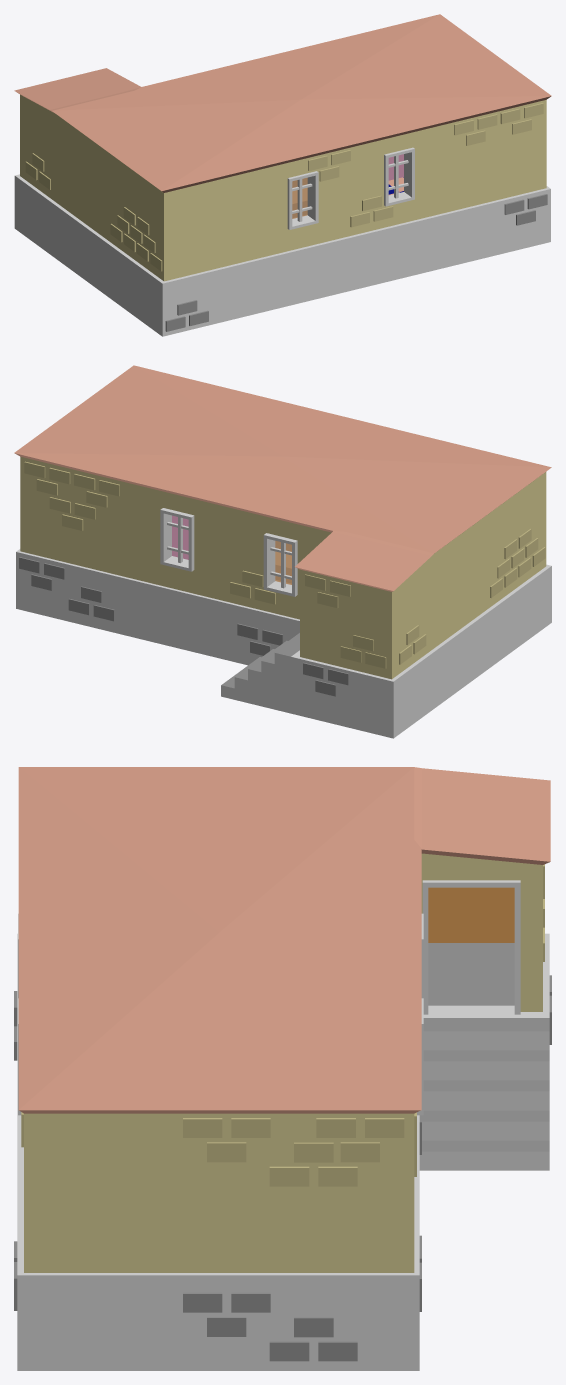
Rendered from House4.fbx.
The picture shows the model from 3 angles, top to bottom: view 1: azimuth 30°, elevation 25°; view 2: azimuth 150°, elevation 25°; view 3: azimuth 270°, elevation 25°; orthographic projection. The views are drawn at different scales.
Parts seen in each view (by area): view 1: House4; view 2: House4; view 3: House4.
Boxes of the visible parts, x1,y1,x2,y2 form: House4: (14,14,551,336); House4: (14,365,551,738); House4: (14,767,551,1370).
Size of the model in its own units: 12.15 by 8.05 by 4.42.
